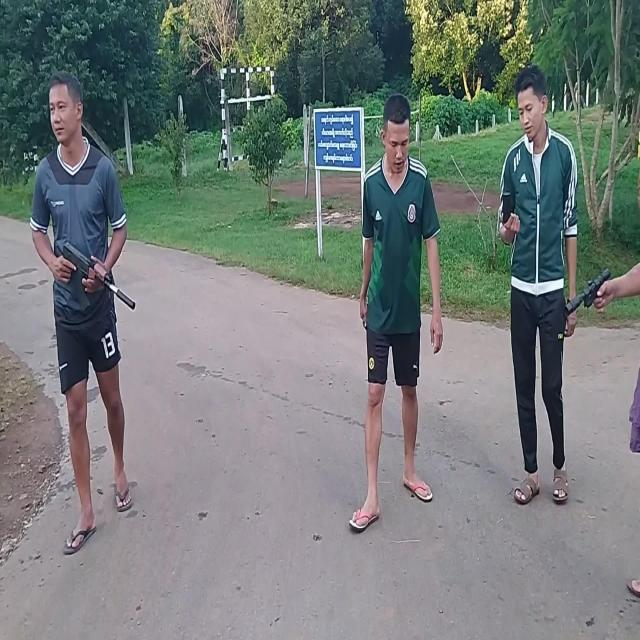gun: (62, 241, 136, 315), (363, 318, 367, 331)
